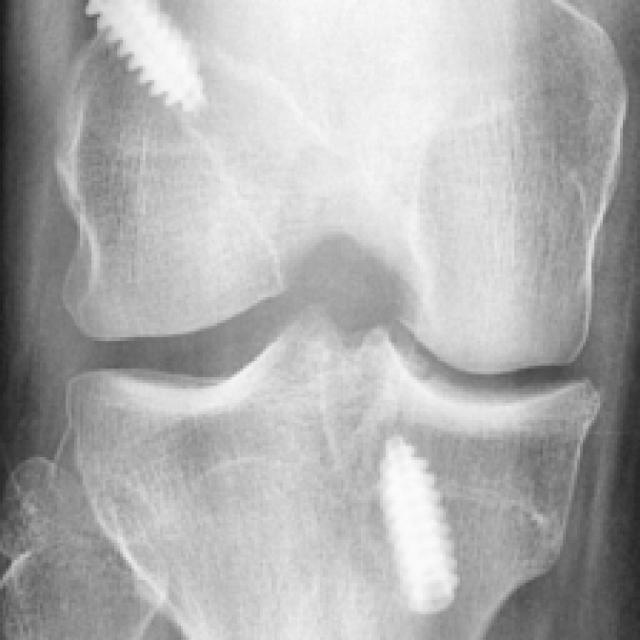femur: (55, 0, 627, 374)
tibia: (64, 305, 605, 639)
